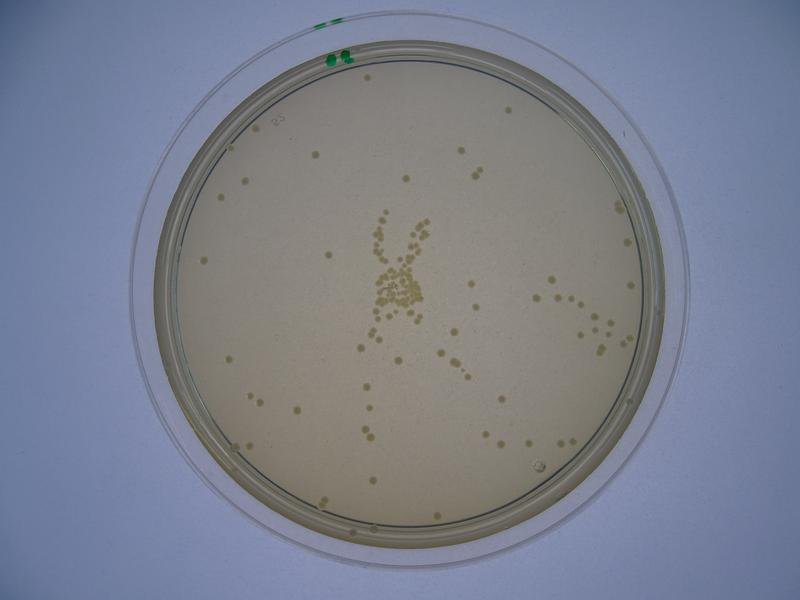colony: (221, 350, 235, 365), (195, 252, 208, 267), (446, 326, 461, 339), (494, 392, 509, 405), (528, 291, 541, 305), (309, 148, 321, 163), (455, 143, 469, 155), (503, 102, 515, 116), (238, 174, 252, 186), (291, 405, 306, 416), (322, 248, 334, 261), (214, 190, 226, 203), (391, 355, 403, 368), (545, 272, 558, 284), (479, 428, 491, 441), (399, 174, 413, 185), (367, 473, 378, 487), (361, 71, 373, 83), (362, 403, 375, 414), (359, 380, 373, 390), (435, 347, 446, 358), (354, 343, 366, 353), (471, 302, 481, 312), (626, 279, 635, 290), (466, 279, 475, 289)
